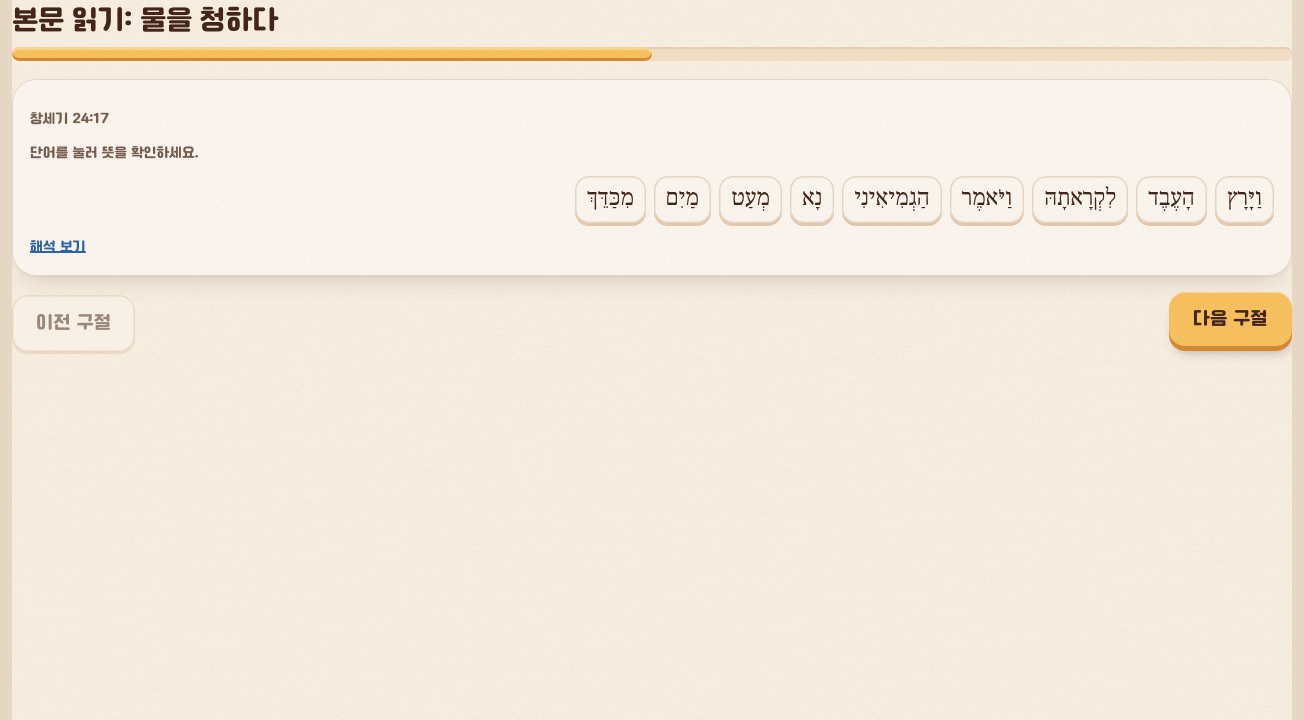
Test: ReadingView › tapping a word shows its card
Click the button named "단어 מַיִם" at (683, 200), box x1=654 y1=176 x2=711 y2=223
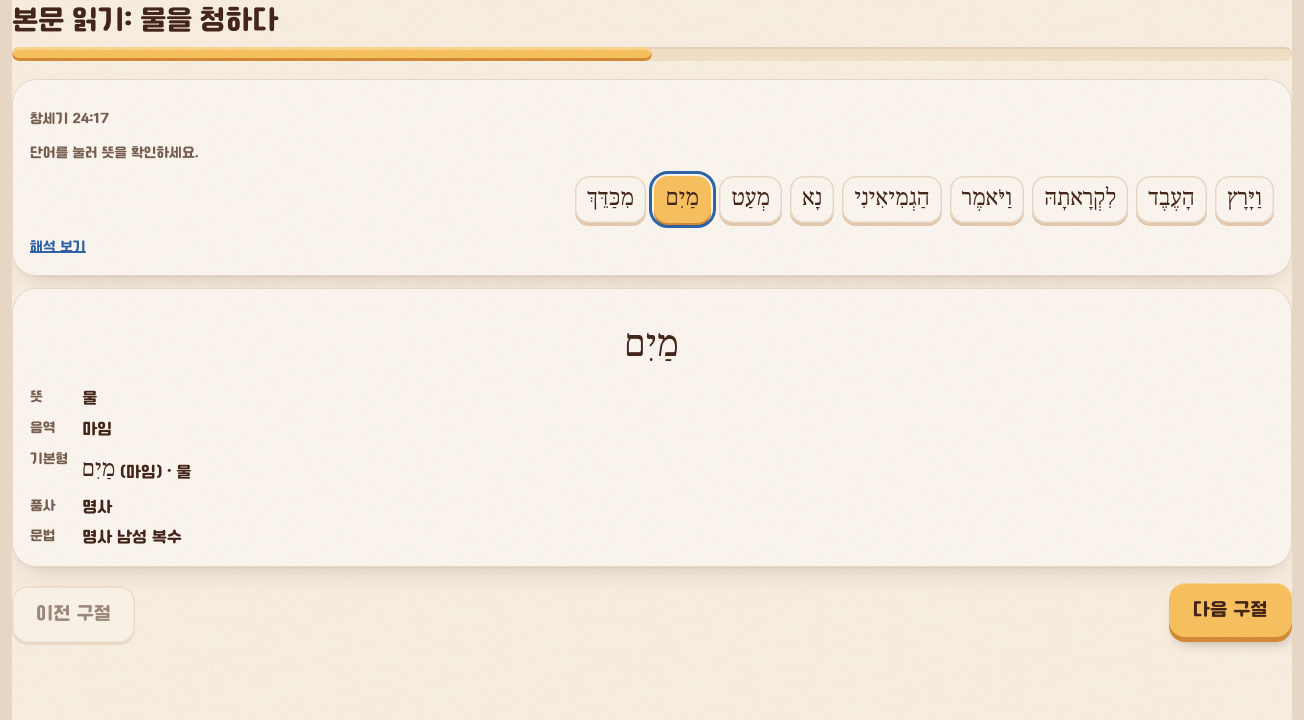
Expected: the element named "단어 정보" shows "물", x1=82 y1=389 x2=97 y2=408
Expected: the element named "단어 정보" shows "마임", x1=82 y1=420 x2=112 y2=439
Expected: the element named "단어 정보" shows "명사 남성 복수", x1=82 y1=528 x2=182 y2=547
